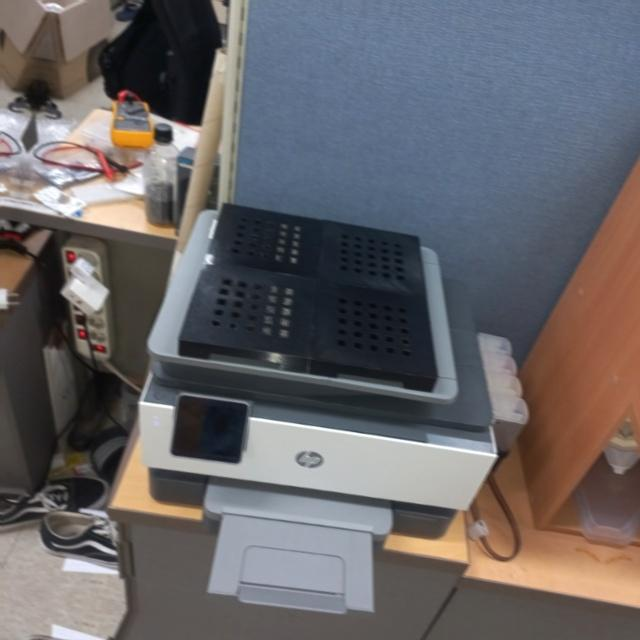pallet: (171, 190, 459, 400)
